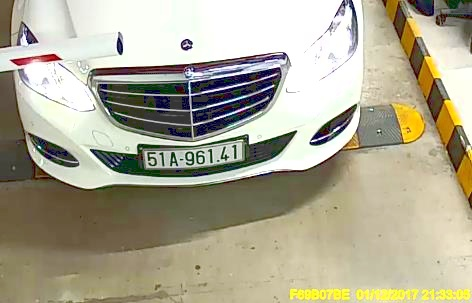plate: (141, 141, 246, 169)
